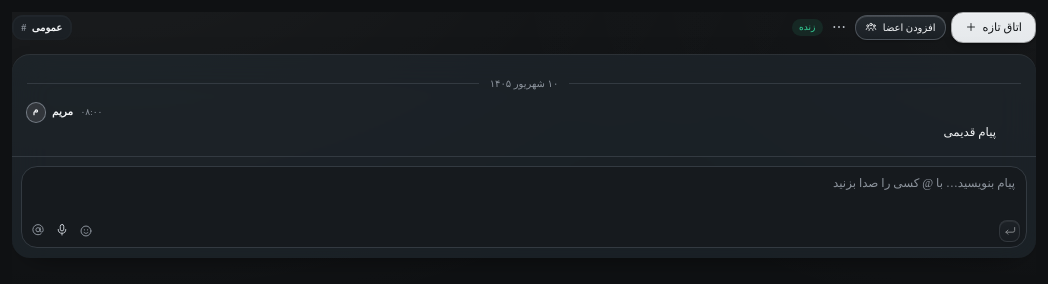
standing in no room › comes back the moment a room is CHOSEN, so leaving is not a dead end
Expected: the text "پیام قدیمی" is shown, [944,124,996,138]
Click the button named "گزینه‌های اتاق": coordinates (839, 27) [828,16,850,38]
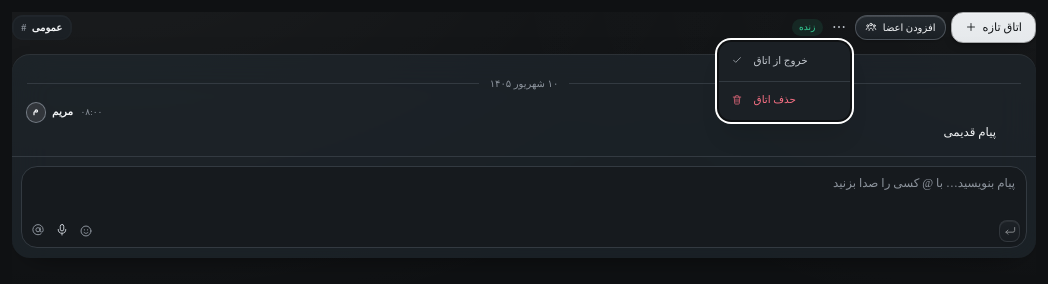
Click the menu item "خروج از اتاق": coordinates (770, 60) [731,54,808,66]
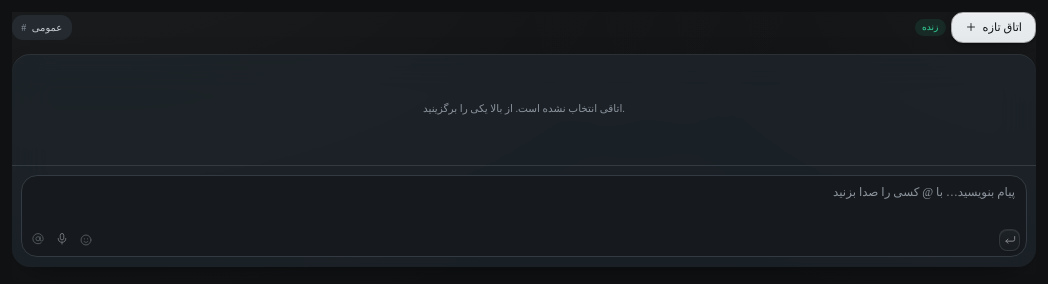
Result: the text "اتاقی انتخاب نشده است. از بالا یکی را برگزینید." is shown at [423,103,625,114]
Click the tab "# عمومی": coordinates (42, 27) [14,16,70,38]
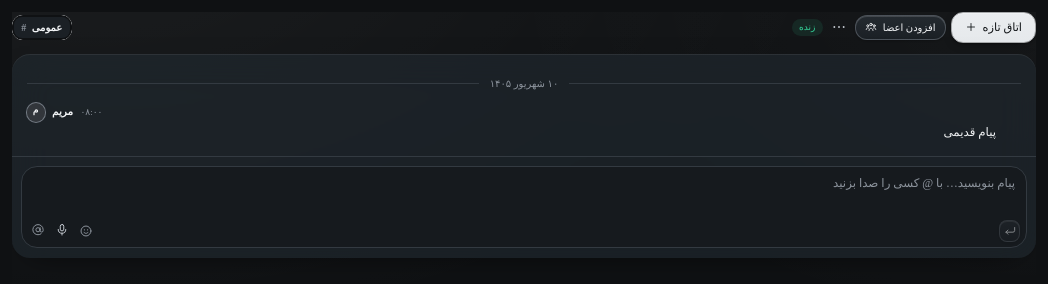
Result: the text "پیام قدیمی" is shown at [944,124,996,138]
